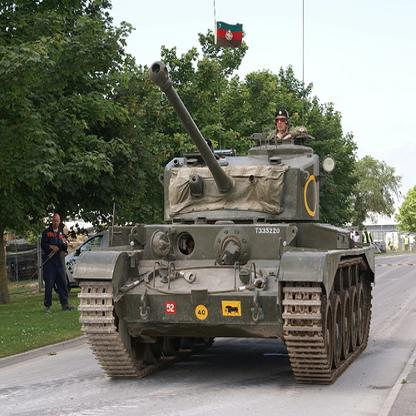Tank: (60, 59, 382, 387)
